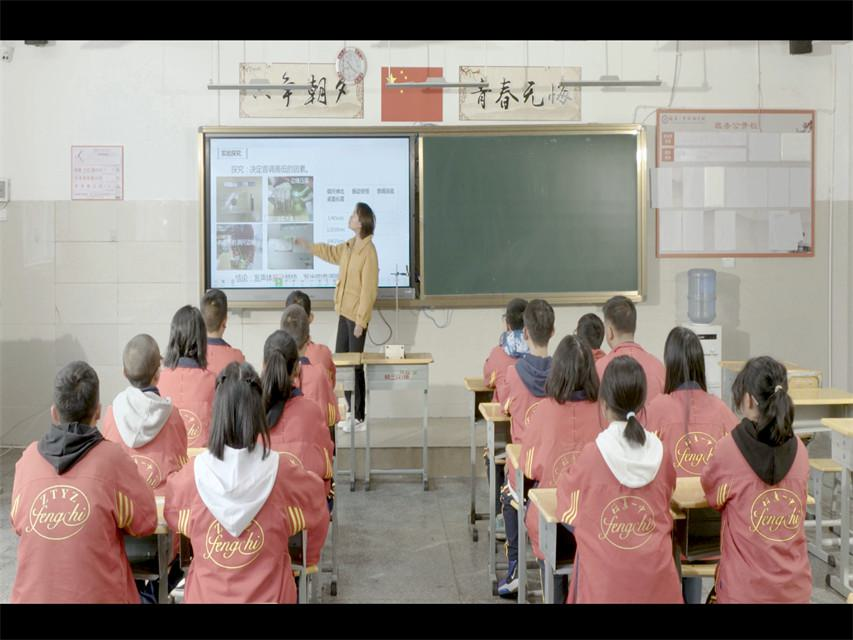listen: (717, 347, 803, 558), (587, 353, 664, 544), (657, 320, 721, 429), (543, 332, 602, 434)
